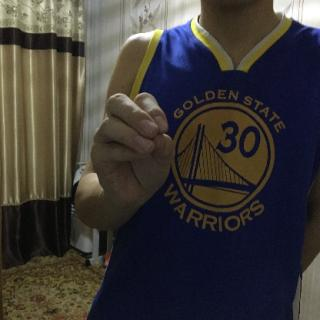HA: (88, 86, 184, 208)
